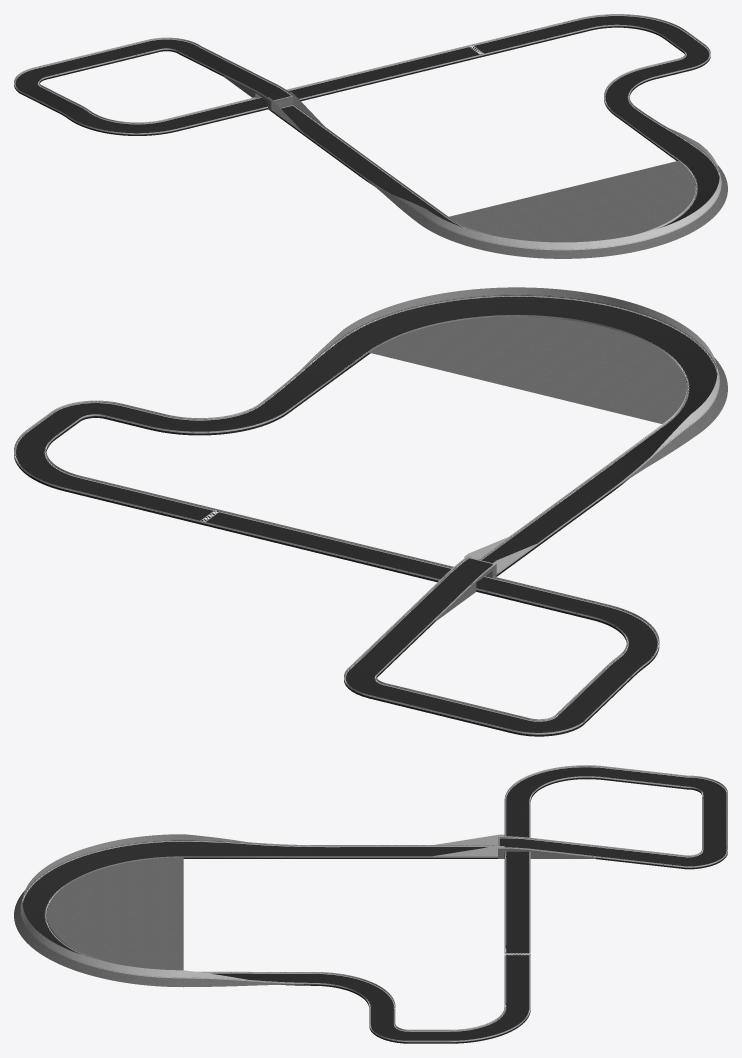
File: figure8track.fbx
3 views of the same model, one above another, from view 1: azimuth 30°, elevation 25°; view 2: azimuth 150°, elevation 25°; view 3: azimuth 270°, elevation 25° (orthographic). The views are drawn at different scales.
Parts seen in each view (by area): view 1: 200turn180terrain, roads, 200turn180road, 200turn180barriers, barriers, 50turn90road, 50turn90road.001, 50turn90road.003, 25turn90road.001, 25turn90road, 25turn90road.002; view 2: roads, 200turn180terrain, 200turn180road, barriers, 200turn180barriers, 50turn90road.003, 50turn90road.001, 50turn90road, 25turn90road.002, 25turn90road, 25turn90road.001; view 3: 200turn180terrain, roads, 200turn180road, 200turn180barriers, barriers, 50turn90road, 50turn90road.001, 50turn90road.003, 25turn90road.001, 25turn90road.002, 25turn90road.
Part boxes in pixels (<box>): 200turn180terrain: <box>363,161,727,258</box>; roads: <box>19,20,704,176</box>; 200turn180road: <box>361,109,719,228</box>; 200turn180barriers: <box>361,107,721,250</box>; barriers: <box>19,18,705,175</box>; 50turn90road: <box>68,112,177,135</box>; 50turn90road.001: <box>578,15,685,38</box>; 50turn90road.003: <box>604,68,656,115</box>; 25turn90road.001: <box>147,39,200,53</box>; 25turn90road: <box>678,46,710,70</box>; 25turn90road.002: <box>14,69,46,92</box>; roads: <box>28,405,645,733</box>; 200turn180terrain: <box>369,316,727,488</box>; 200turn180road: <box>260,295,717,492</box>; barriers: <box>27,403,645,731</box>; 200turn180barriers: <box>259,287,719,490</box>; 50turn90road.003: <box>149,405,287,435</box>; 50turn90road.001: <box>14,431,80,491</box>; 50turn90road: <box>592,606,659,666</box>; 25turn90road.002: <box>513,717,582,736</box>; 25turn90road: <box>52,402,120,421</box>; 25turn90road.001: <box>344,667,385,698</box>; 200turn180terrain: <box>14,857,303,987</box>; roads: <box>314,766,727,1043</box>; 200turn180road: <box>22,840,313,985</box>; 200turn180barriers: <box>20,834,313,984</box>; barriers: <box>314,765,687,1042</box>; 50turn90road: <box>504,766,586,801</box>; 50turn90road.001: <box>449,1008,530,1043</box>; 50turn90road.003: <box>314,973,395,1007</box>; 25turn90road.001: <box>687,850,727,869</box>; 25turn90road.002: <box>687,777,727,794</box>; 25turn90road: <box>369,1025,409,1043</box>.
Size of what is drawn, in the model's own units: 40000 by 1700 by 43800.
